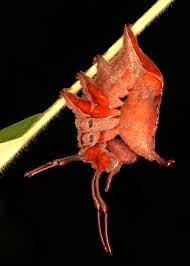Lobster Moth: (60, 24, 175, 192)
